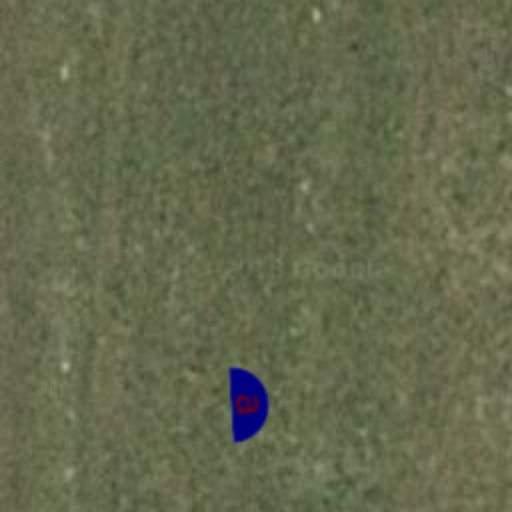semicircle: (208, 362, 292, 446)
